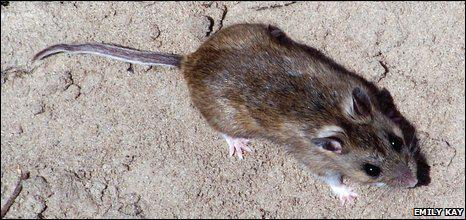rat: (32, 24, 418, 206)
